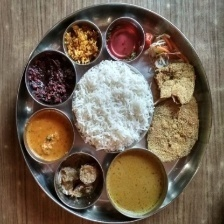dal: (105, 147, 170, 217)
